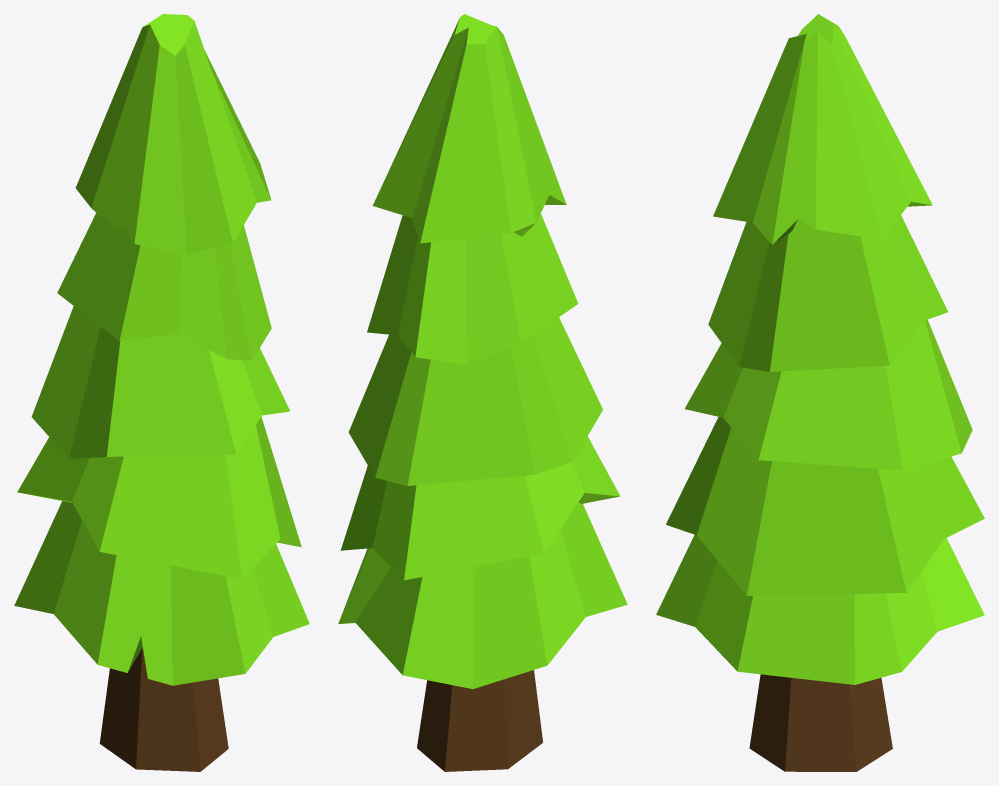
The model's file is baum_2.obj.
3 renders of one model, left to right at view 1: azimuth 30°, elevation 25°; view 2: azimuth 150°, elevation 25°; view 3: azimuth 270°, elevation 25°, orthographic.
Visible parts, largest first — view 1: Cylinder.006_Cylinder.008; view 2: Cylinder.006_Cylinder.008; view 3: Cylinder.006_Cylinder.008.
Boxes of the visible parts, x1,y1,x2,y2 form: Cylinder.006_Cylinder.008: (14,14,309,771); Cylinder.006_Cylinder.008: (338,14,627,771); Cylinder.006_Cylinder.008: (656,14,984,771).
Size of the model in its own units: 1.63 by 5.11 by 2.09.
Materials: 2 (2 with a texture image).
